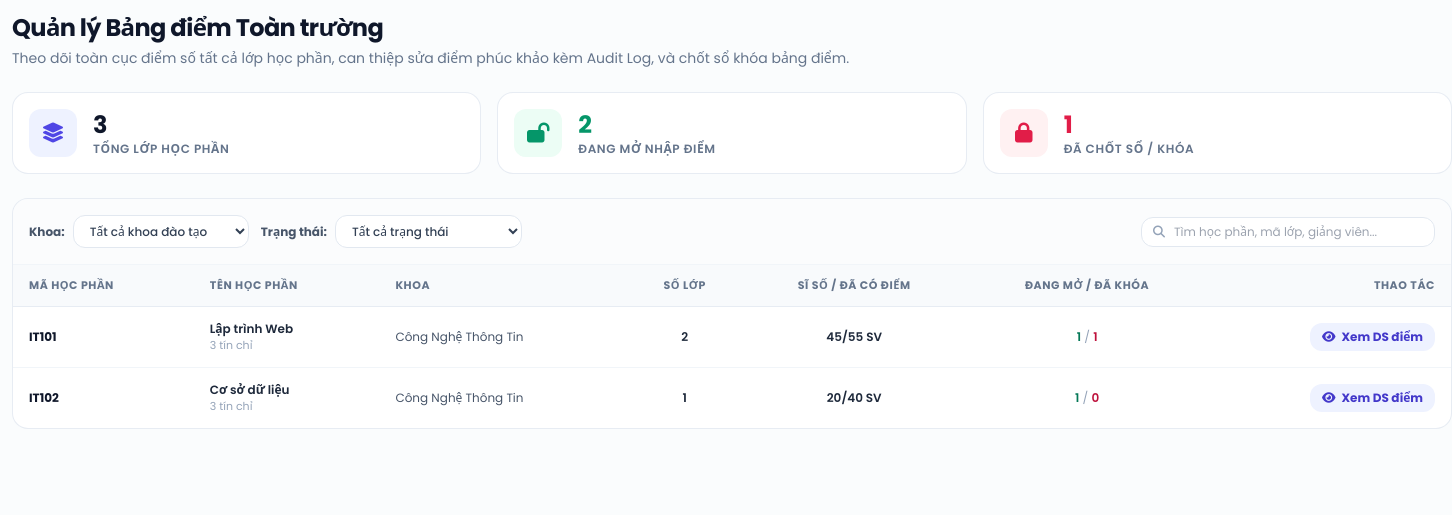
ManageGradebook (Admin Gradebook Management) › switches to class detail gradebook view when clicking "Xem Bảng điểm"
The image size is (1452, 515).
What coordinates should you click on to do the following:
click the button with aria-label "Xem DS điểm Lập trình Web"
I would click on:
 (1372, 336)
Its box is [1310,322,1435,350].
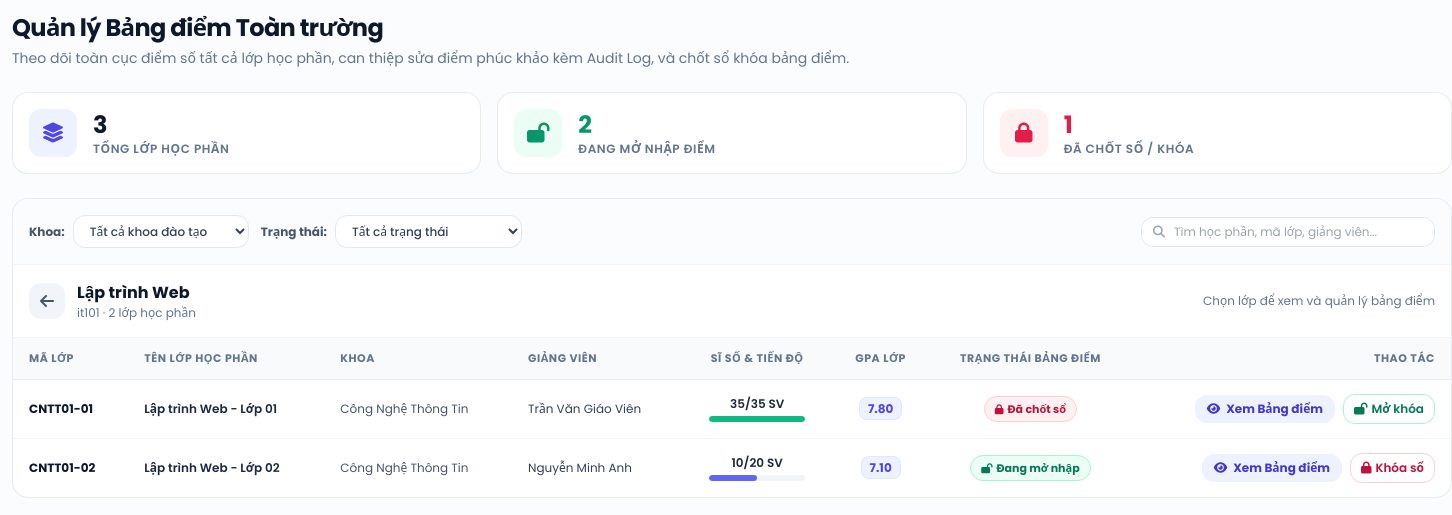
Check: the text "it101 · 2 lớp học phần" is shown, box [77,305,196,321]
What coordinates should you click on to do the following:
click the button with aria-label "Xem Bảng điểm CNTT01-01"
I would click on:
 (1265, 408)
Its box is [1195,394,1335,422].
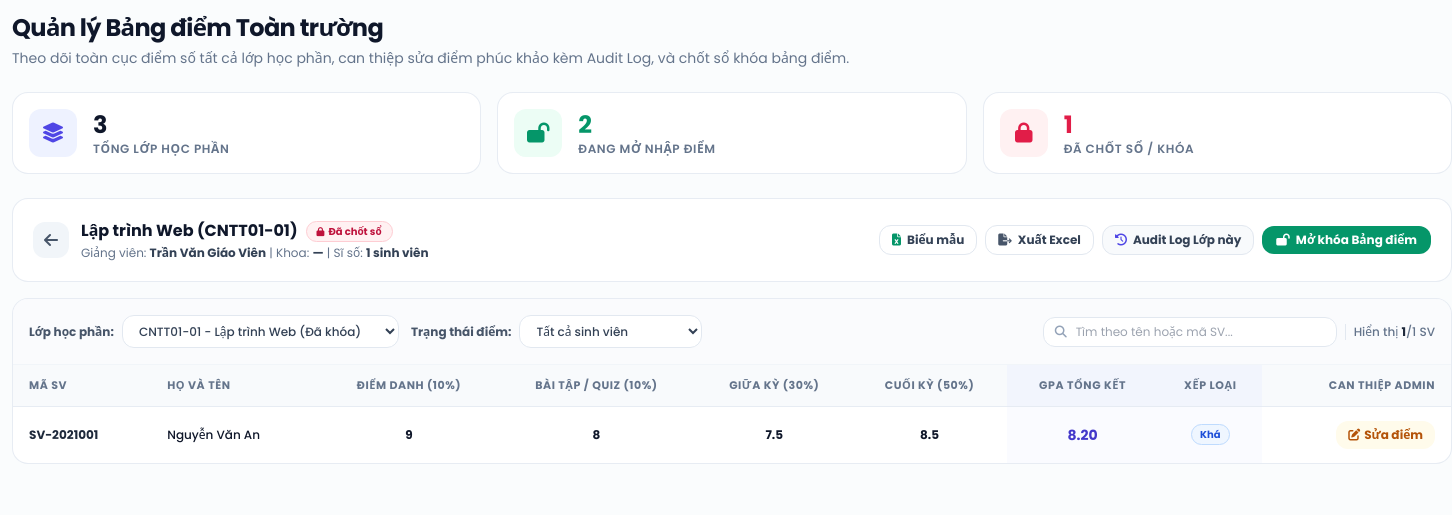
Check: the text "Nguyễn Văn An" is shown, box [151,406,321,462]
Check: the button titled "Quay lại danh sách lớp" is shown, box [33,222,69,258]
